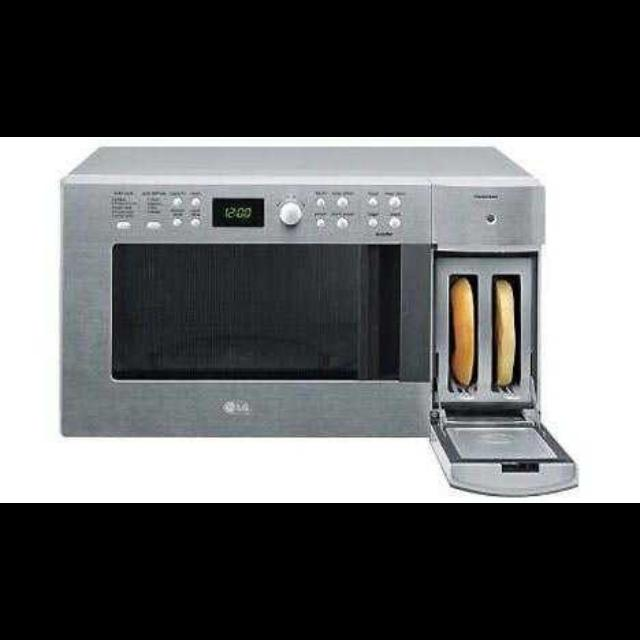Oven: (61, 175, 546, 448)
